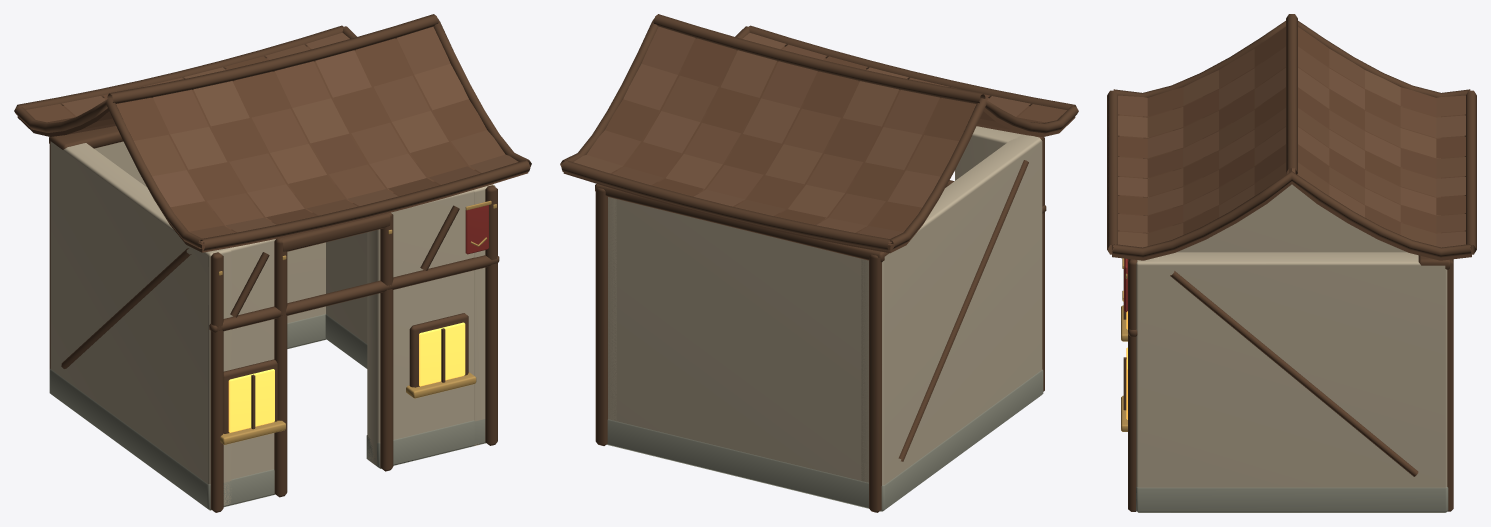
The model's file is architecture-townhouse.glb.
The picture shows the model from 3 angles, left to right: view 1: azimuth 30°, elevation 25°; view 2: azimuth 150°, elevation 25°; view 3: azimuth 270°, elevation 25°; orthographic projection. The views are drawn at different scales.
Parts seen in each view (by area): view 1: architecture-townhouse-exterior; view 2: architecture-townhouse-exterior; view 3: architecture-townhouse-exterior.
Boxes of the visible parts, x1,y1,x2,y2 form: architecture-townhouse-exterior: [14, 14, 531, 512]; architecture-townhouse-exterior: [560, 14, 1078, 512]; architecture-townhouse-exterior: [1107, 14, 1476, 512].
Size of the model in its own units: 4.07 by 4.23 by 4.
